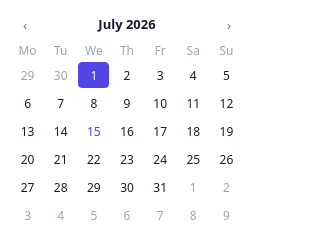
Test: MiniCalendar › month navigation shifts the visible grid both ways
Click the button named "Next month" at (229, 25), box [216,12,242,38]
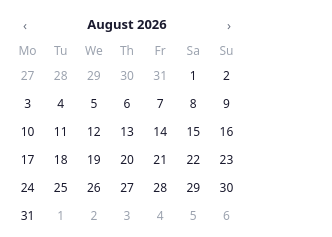
Check: the text "August 2026" is shown, box [87,15,167,35]
Click the button named "Previous month" at (25, 25), box [12,12,38,38]
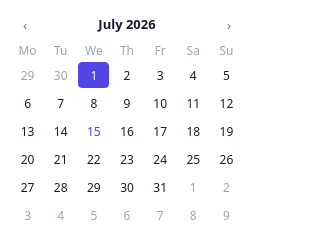
Click the button named "Previous month" at (25, 25), box [12,12,38,38]
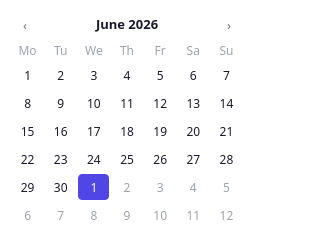
Check: the text "June 2026" is shown, box [96,15,158,35]
